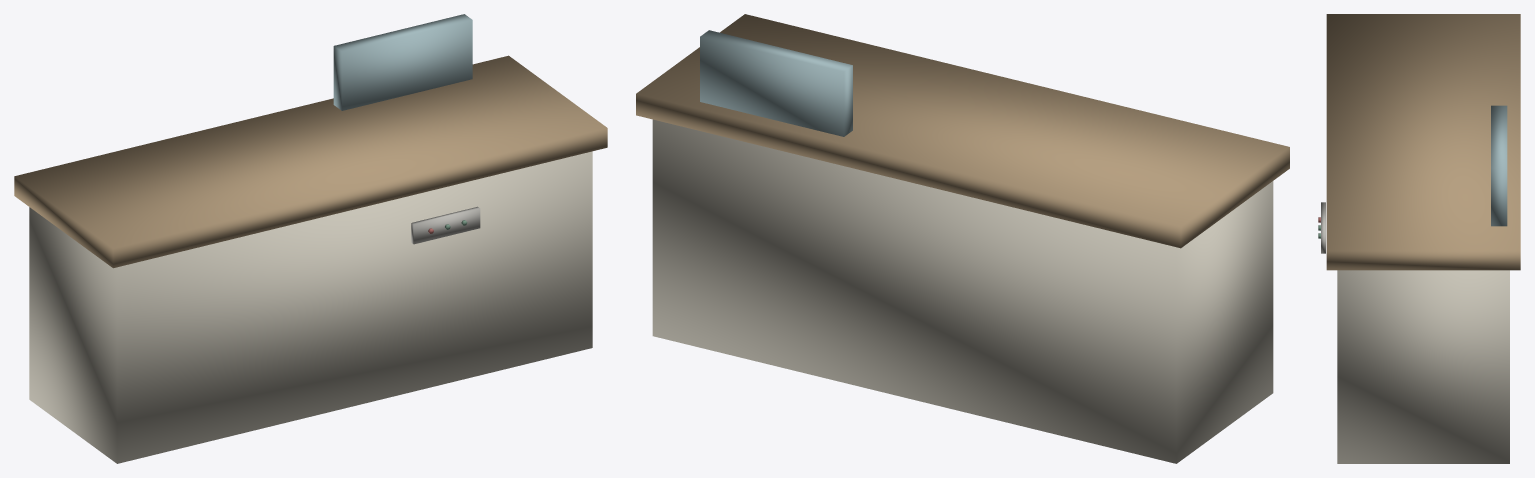
The model's file is service_counter__reinforced.glb.
3 renders of one model, left to right at view 1: azimuth 30°, elevation 25°; view 2: azimuth 150°, elevation 25°; view 3: azimuth 270°, elevation 25°, orthographic. The views are drawn at different scales.
Parts seen in each view (by area): view 1: world; view 2: world; view 3: world.
Part boxes in pixels (<box>): world: <box>14,14,607,463</box>; world: <box>636,14,1289,463</box>; world: <box>1318,14,1520,463</box>.
Size of the model in its own units: 2.14 by 1.16 by 0.7735.
